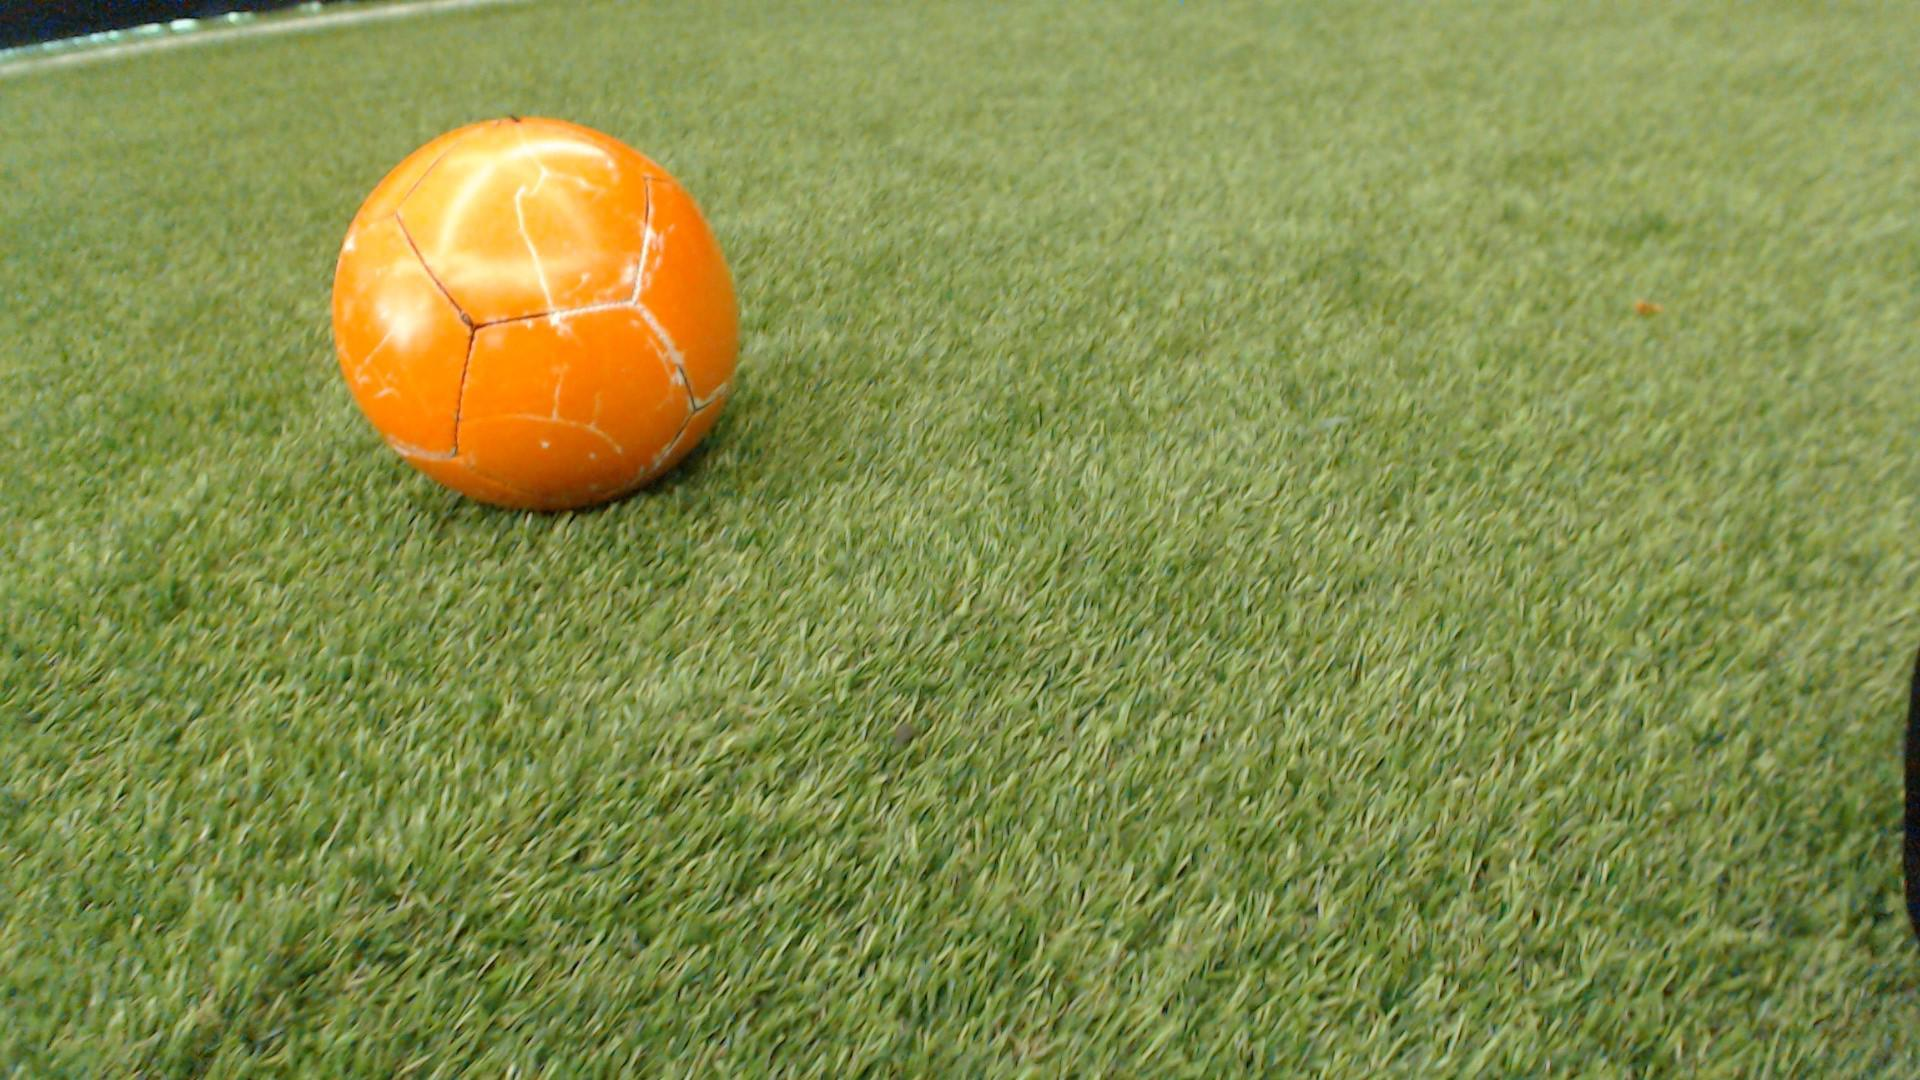bola: (291, 86, 774, 542)
